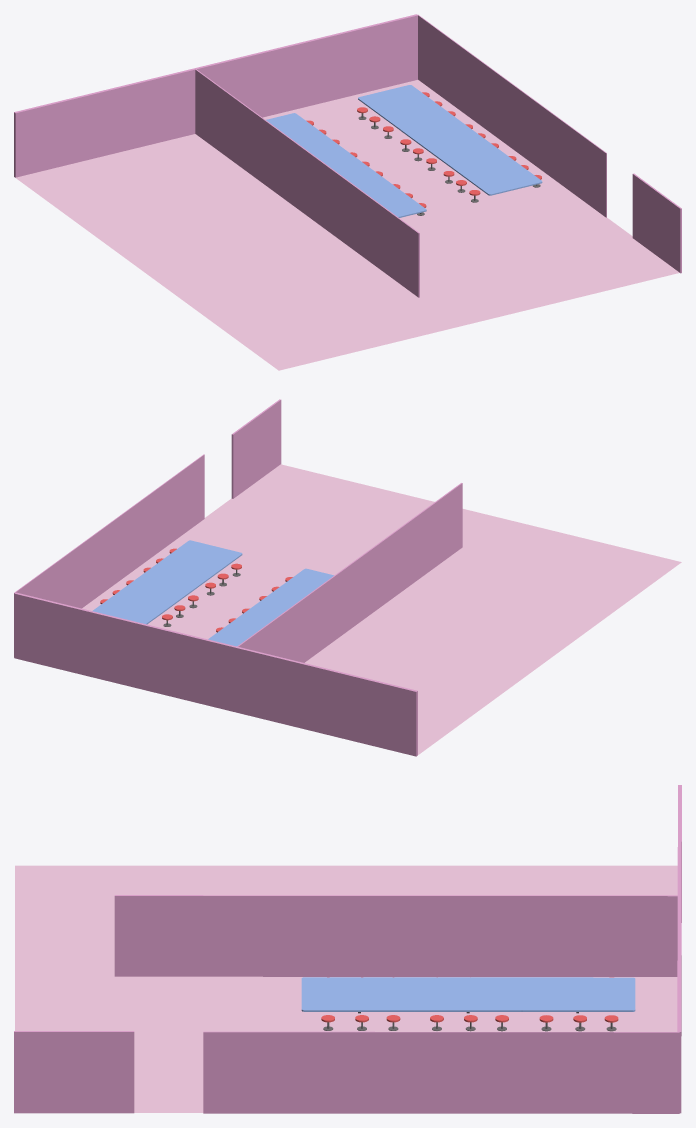
File: dining_area2.dae
3 views of the same model, one above another, from view 1: azimuth 30°, elevation 25°; view 2: azimuth 150°, elevation 25°; view 3: azimuth 270°, elevation 25° (orthographic). The views are drawn at different scales.
Parts seen in each view (by area): view 1: Plane.001, Cube.008, Cube.007, Cube.004, table2, table2.001, wall3.003; view 2: Plane.001, Cube.008, Cube.007, Cube.004, table2, wall3.003, table2.001; view 3: Plane.001, Cube.007, Cube.004, table2.001, wall3.003, Cube.008.
Boxes of the visible parts, left/top/right/bottom form: Plane.001: left=15, top=80, right=679, bottom=370; Cube.008: left=14, top=14, right=417, bottom=177; Cube.007: left=195, top=69, right=419, bottom=297; Cube.004: left=417, top=14, right=606, bottom=217; table2: left=357, top=85, right=542, bottom=202; table2.001: left=266, top=113, right=426, bottom=217; wall3.003: left=632, top=173, right=681, bottom=273; Plane.001: left=82, top=464, right=681, bottom=754; Cube.008: left=14, top=592, right=417, bottom=756; Cube.007: left=236, top=483, right=462, bottom=662; Cube.004: left=14, top=454, right=204, bottom=657; table2: left=92, top=540, right=242, bottom=626; wall3.003: left=231, top=399, right=281, bottom=498; table2.001: left=208, top=568, right=333, bottom=646; Plane.001: left=15, top=865, right=677, bottom=1112; Cube.007: left=114, top=895, right=680, bottom=976; Cube.004: left=203, top=1031, right=679, bottom=1113; table2.001: left=301, top=977, right=635, bottom=1031; wall3.003: left=14, top=1031, right=134, bottom=1113; Cube.008: left=677, top=785, right=681, bottom=1113.
Size of the model in its own units: 20.28 by 23.12 by 3.21.
